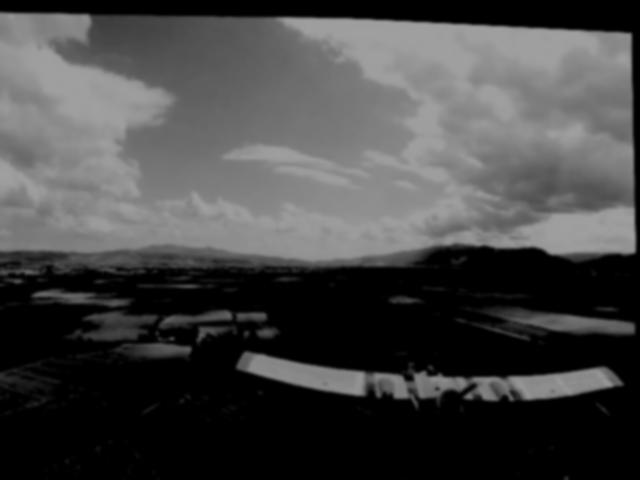hedef: (231, 327, 635, 480)
